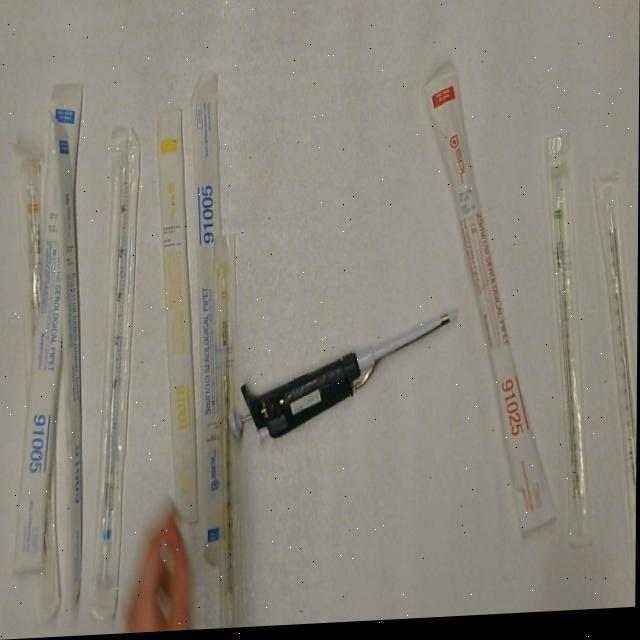Serelogical Pipet 1 mL - Sealed: (151, 103, 202, 531), (210, 233, 252, 631)
Serelogical Pipet 10 mL - Sealed: (11, 143, 51, 398)
Serelogical Pipet 2 mL - Sealed: (542, 132, 599, 566)
Serelogical Pipet 25 mL - Sealed: (421, 64, 563, 550)
Serelogical Pipet 5 mL - Sealed: (12, 75, 87, 583), (89, 126, 145, 625), (187, 66, 237, 570), (45, 105, 88, 620)
Single Channel Pipettor: (222, 307, 463, 449)
